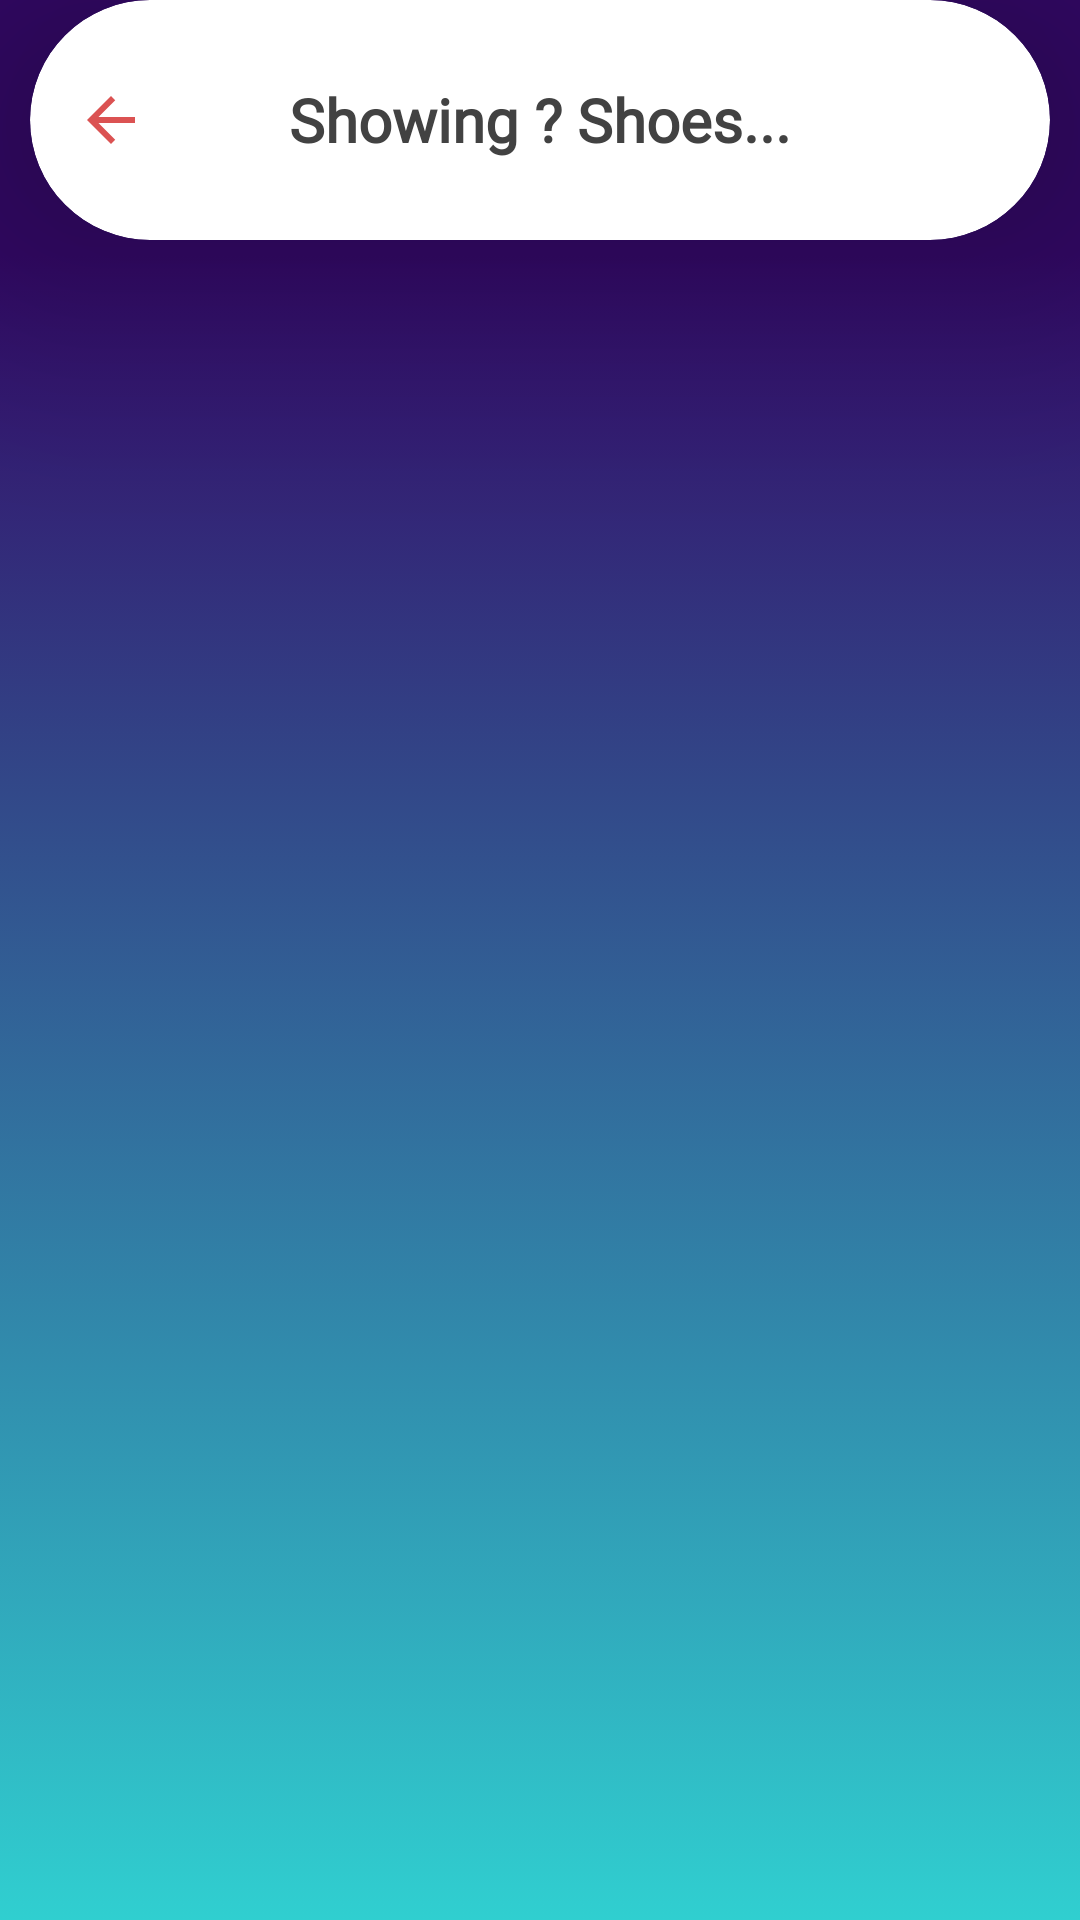

Screen size 1080px×1920px. Icon name, then its center in pixels as point (x, y):
arrow back: point (111, 120)
